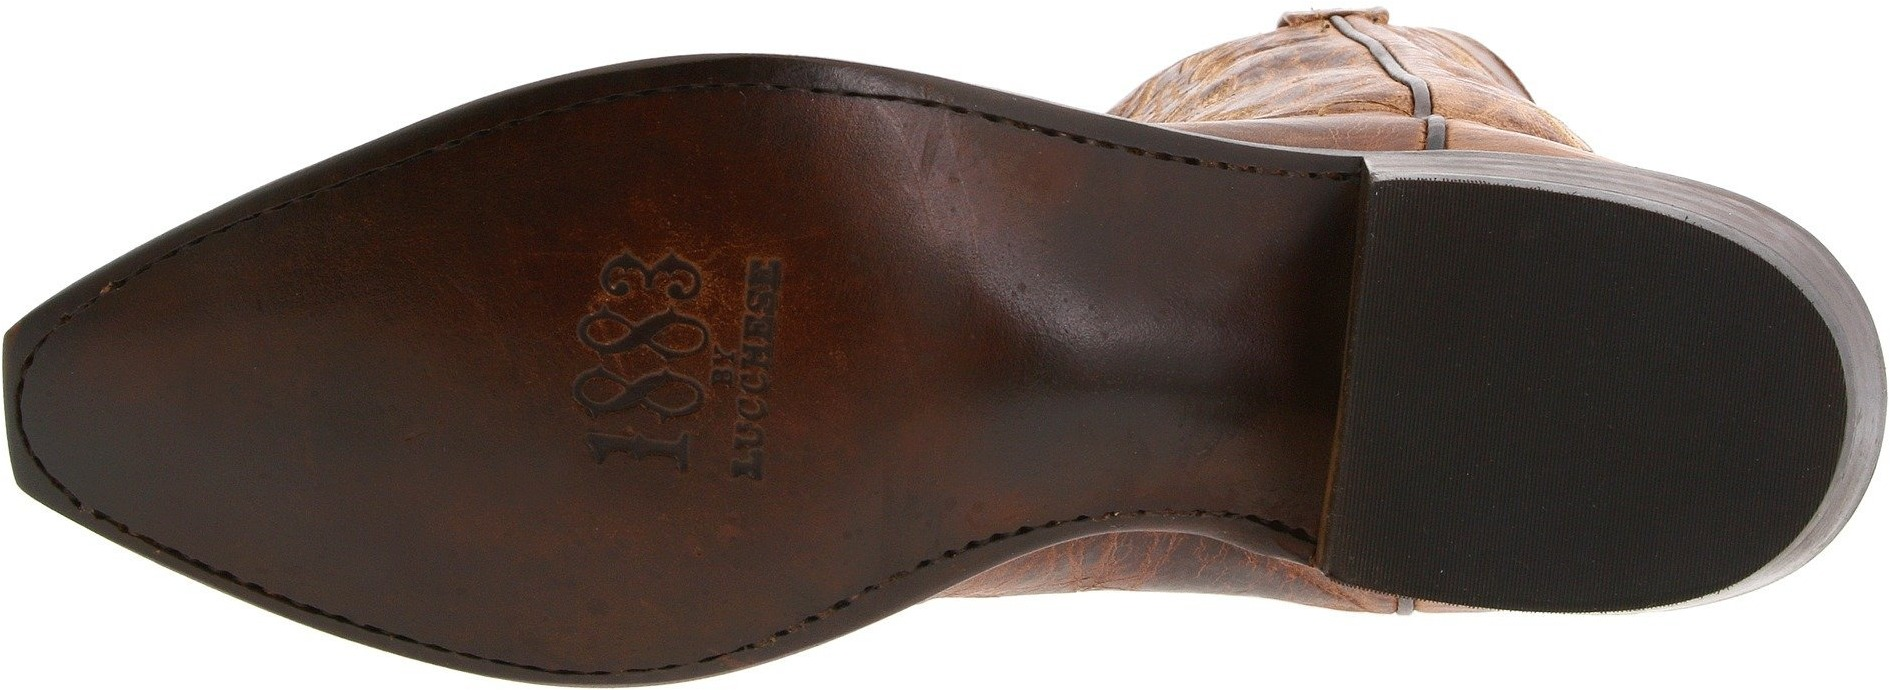exclude: (1100, 49, 1378, 581)
other: (826, 185, 1082, 435), (199, 271, 434, 489), (1386, 210, 1578, 394), (1597, 262, 1775, 431), (1378, 411, 1554, 581), (412, 499, 581, 643), (604, 513, 746, 647)
text: (579, 233, 735, 369), (580, 372, 722, 501), (741, 291, 814, 366), (729, 380, 783, 444)
